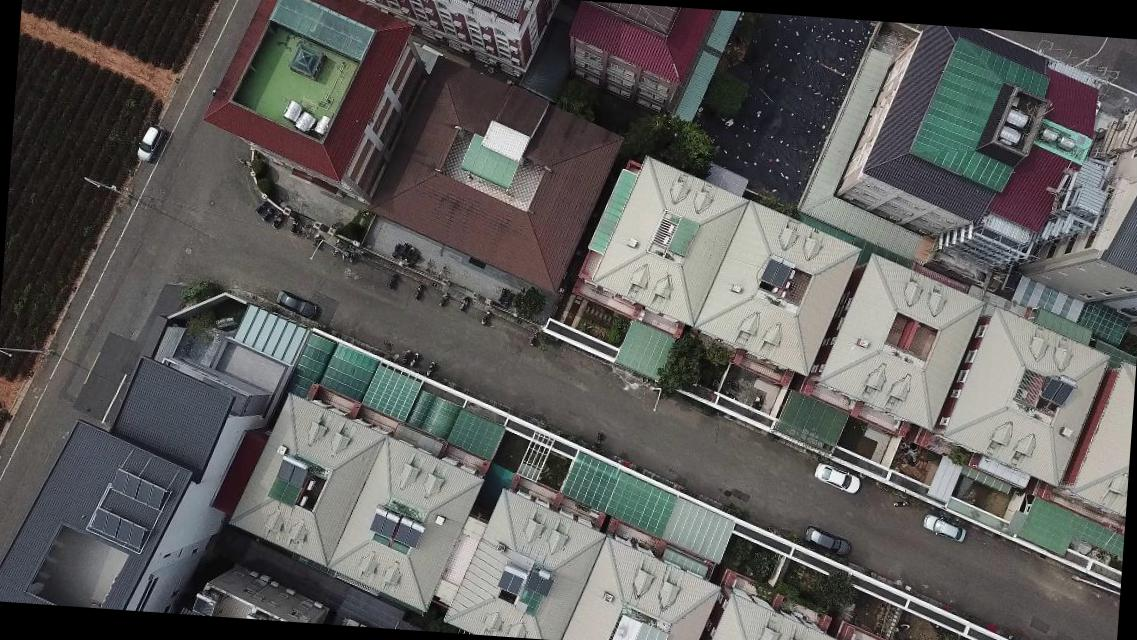vehicle: (812, 461, 862, 494), (802, 525, 853, 557), (272, 290, 322, 322), (918, 512, 969, 543), (136, 122, 162, 164)
